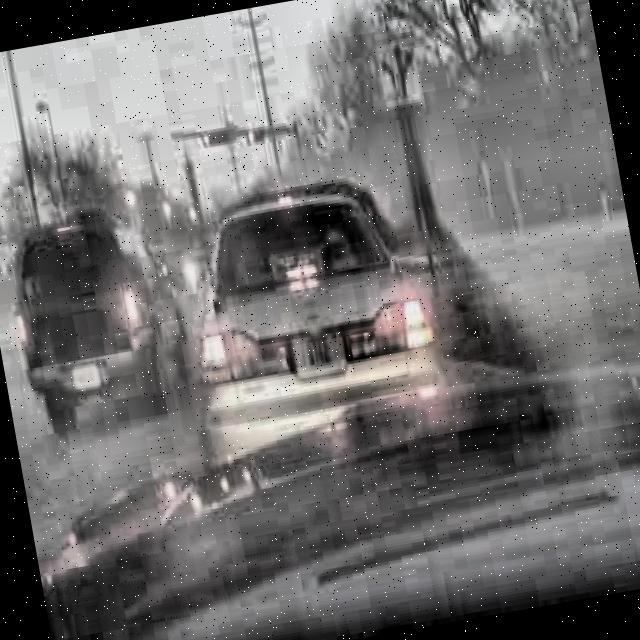license_plate: (289, 328, 348, 382), (70, 358, 104, 396)
